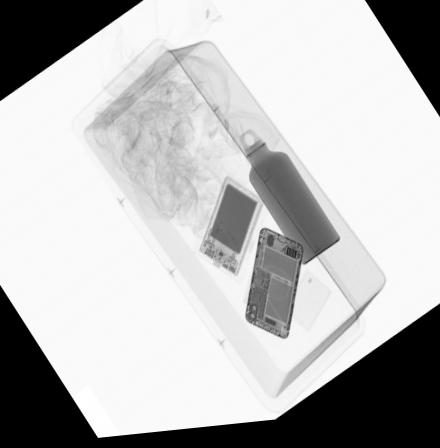Powerbank: (197, 179, 262, 283)
